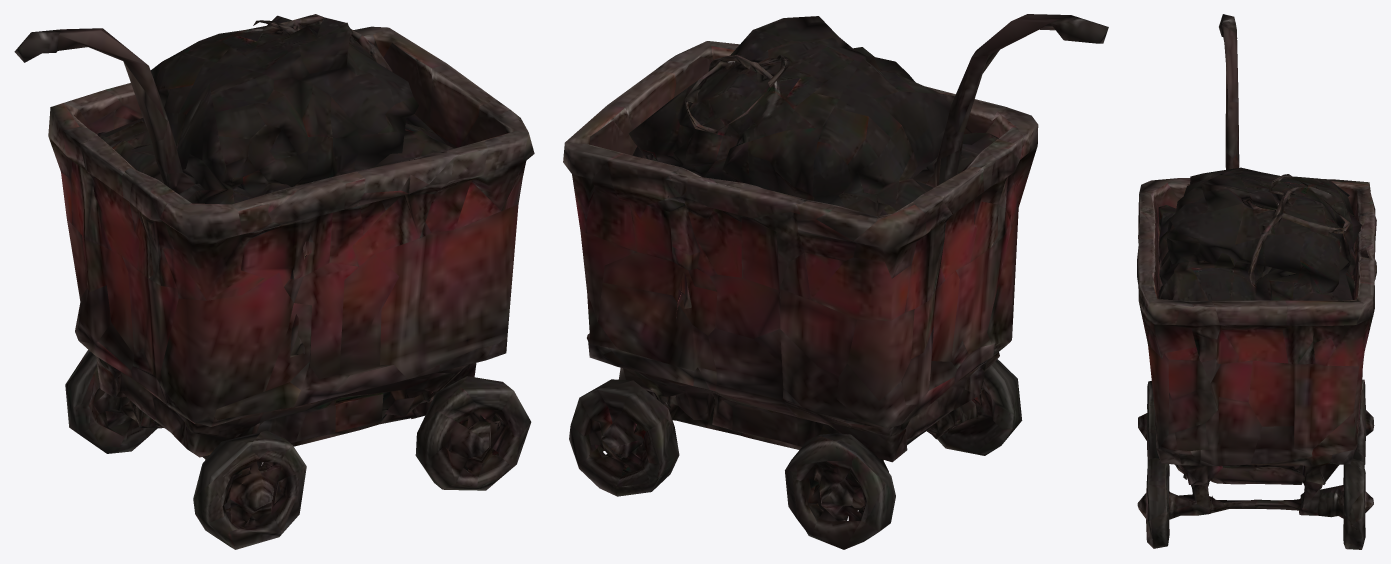
File: cart.glb
3 views of the same model, side by side, from view 1: azimuth 30°, elevation 25°; view 2: azimuth 150°, elevation 25°; view 3: azimuth 270°, elevation 25° (orthographic). The views are drawn at different scales.
Size of the model in its own units: 180 by 189 by 106.
1 material, 1 textured.
